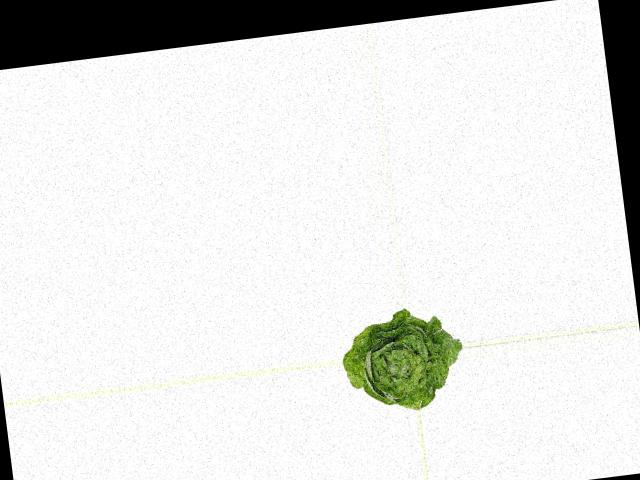lettuce: (336, 302, 465, 417)
